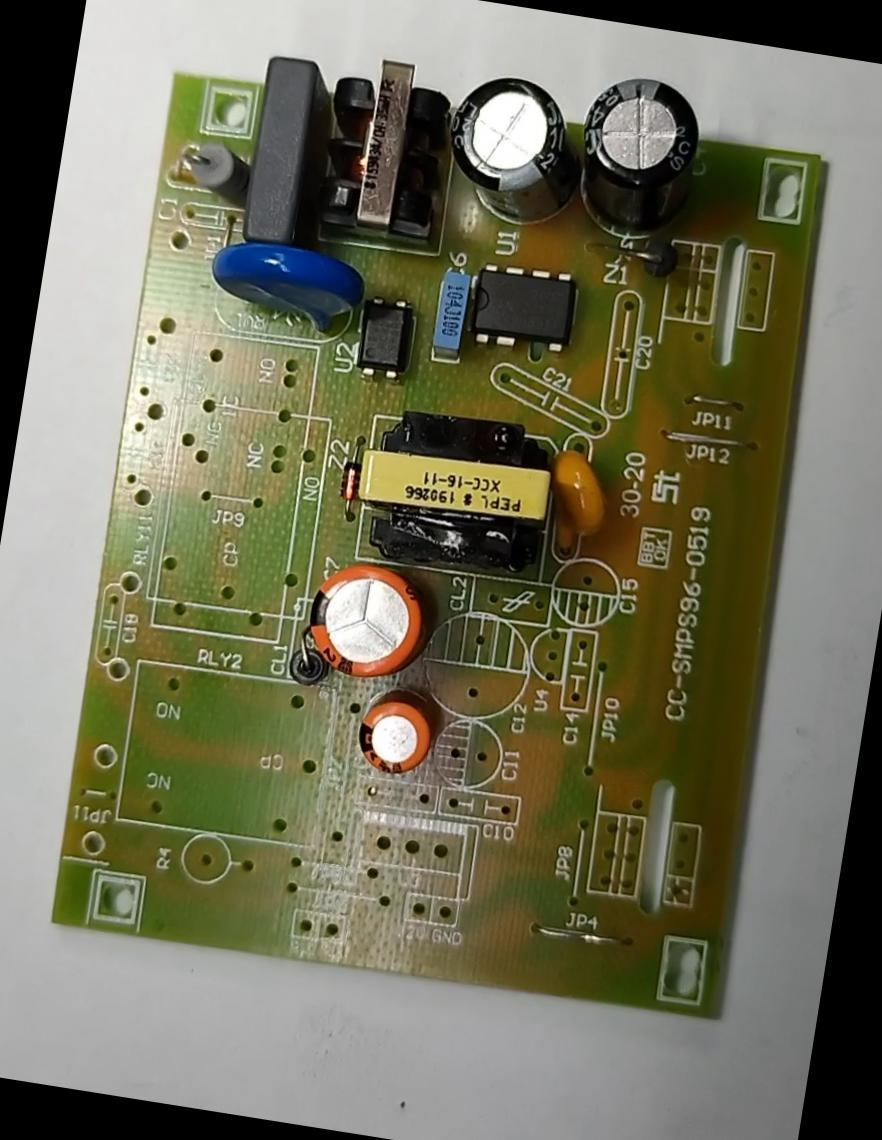Cap1: (296, 546, 438, 696)
Cap2: (348, 682, 442, 784)
Cap3: (432, 59, 592, 234)
Cap4: (567, 66, 708, 244)
MOSFET: (462, 250, 585, 364)
Mov: (192, 226, 370, 349)
Resistor: (170, 131, 254, 213)
Transformer: (338, 393, 568, 585), (308, 36, 464, 246)
